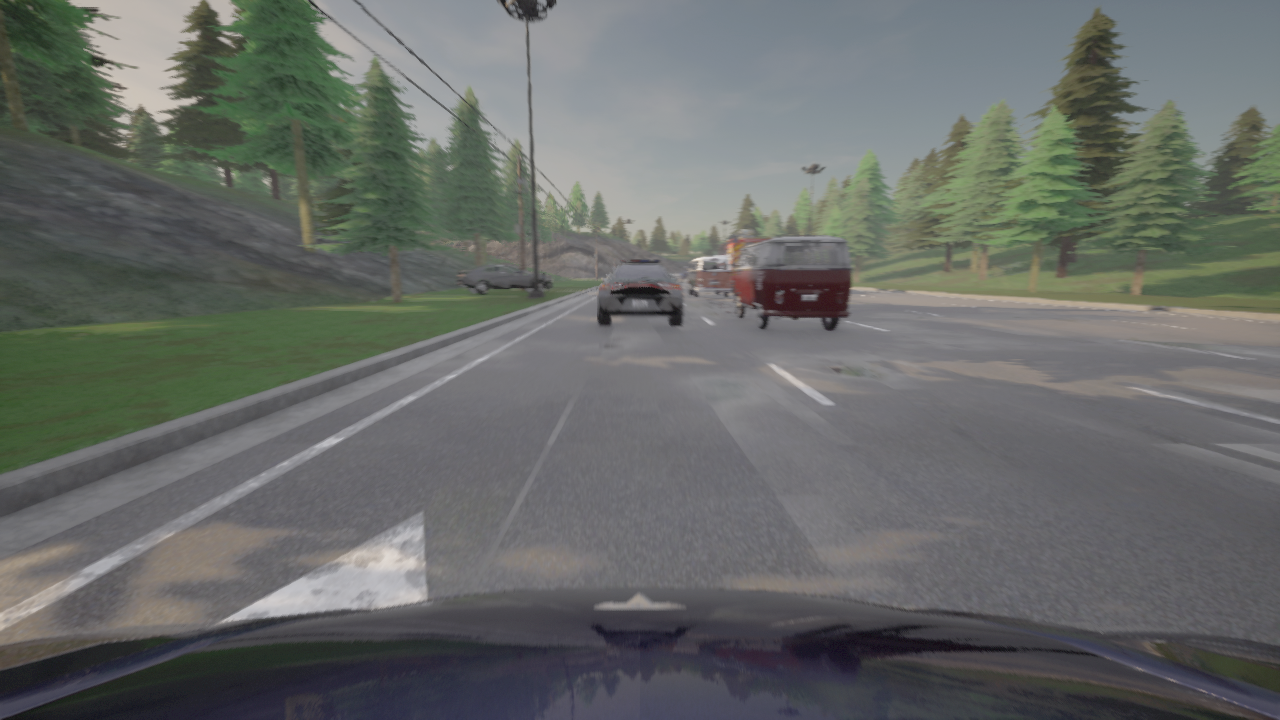cyclist: (0, 588, 1279, 719), (731, 236, 851, 329), (597, 260, 682, 325), (713, 230, 769, 291), (455, 264, 553, 294), (685, 256, 731, 297), (679, 268, 687, 281)
